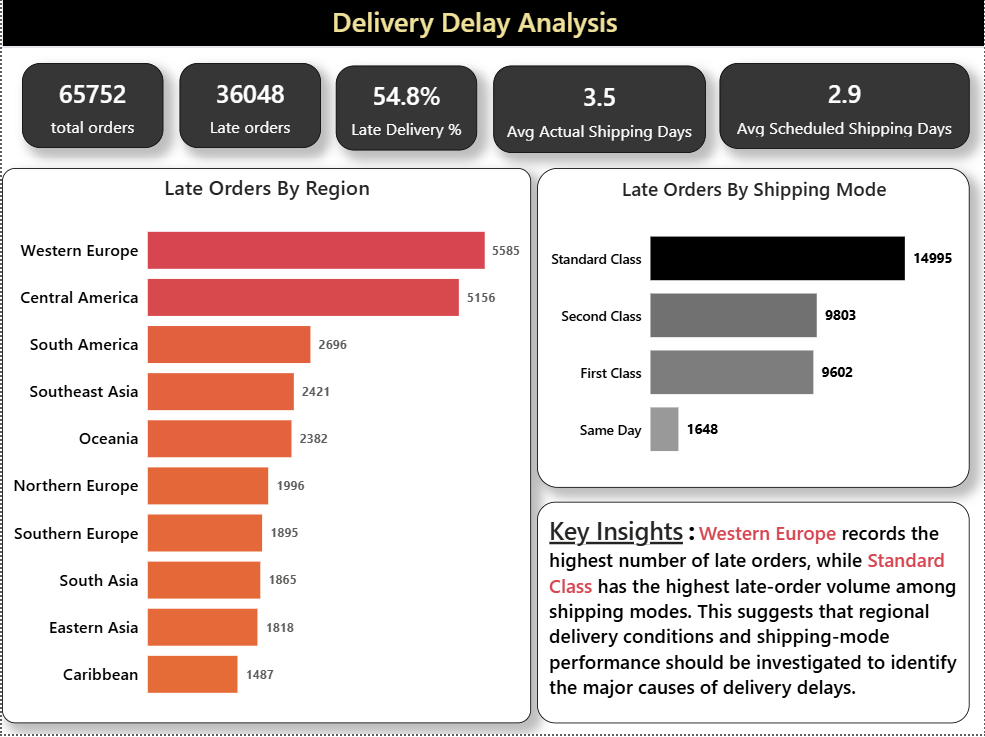

What the dashboard file says about the page in this screenshot:
{"tool":"powerbi","page":{"name":"Page 1","canvas":[960,720],"ordinal":0},"visuals":[{"type":"shape","box":[0,0,1280.3,48],"z":0},{"type":"textbox","box":[317.9,0,294.7,75.8],"z":1000},{"type":"card","fields":{"Values":["DataCoSupplyChainDataset1.total orders"]},"box":[19.6,63.6,138.2,83.2],"z":2000},{"type":"card","fields":{"Values":["DataCoSupplyChainDataset1.late orders"]},"box":[173.2,63.6,138.2,83.2],"z":3000},{"type":"card","fields":{"Values":["DataCoSupplyChainDataset1.Late Delivery %"]},"box":[326.9,66,138.2,83.2],"z":4000},{"type":"card","fields":{"Values":["DataCoSupplyChainDataset1.avg shipping days"]},"box":[480.6,66,207.9,85.6],"z":5000},{"type":"card","fields":{"Values":["DataCoSupplyChainDataset1.Avg Scheduled Shipping Days"]},"box":[701.9,63.6,244.6,84.4],"z":6000},{"type":"clusteredBarChart","title":"Late Orders By Region","fields":{"Y":["DataCoSupplyChainDataset1.late orders"],"Category":["DataCoSupplyChainDataset1.Order_Region"]},"box":[0,166.3,517.3,542.9],"z":7000},{"type":"barChart","title":"Late Orders By Shipping Mode","fields":{"Category":["DataCoSupplyChainDataset1.Shipping_Mode"],"Y":["DataCoSupplyChainDataset1.late orders"]},"box":[523.4,166.3,423.1,313],"z":8000},{"type":"textbox","box":[523.4,492.8,423.1,216.4],"z":9000}]}

Visuals, with their boxes in screenshot pixels (x1, y1, x2, y2), scaled from the page's 960x720 canvas onto the 985x737 screenshot:
shape: [left=0, top=0, right=984, bottom=49]
textbox: [left=326, top=0, right=629, bottom=78]
card - DataCoSupplyChainDataset1.total orders: [left=20, top=65, right=162, bottom=150]
card - DataCoSupplyChainDataset1.late orders: [left=178, top=65, right=320, bottom=150]
card - DataCoSupplyChainDataset1.Late Delivery %: [left=335, top=68, right=477, bottom=153]
card - DataCoSupplyChainDataset1.avg shipping days: [left=493, top=68, right=706, bottom=155]
card - DataCoSupplyChainDataset1.Avg Scheduled Shipping Days: [left=720, top=65, right=971, bottom=151]
"Late Orders By Region" clusteredBarChart: [left=0, top=170, right=531, bottom=726]
"Late Orders By Shipping Mode" barChart: [left=537, top=170, right=971, bottom=491]
textbox: [left=537, top=504, right=971, bottom=726]
